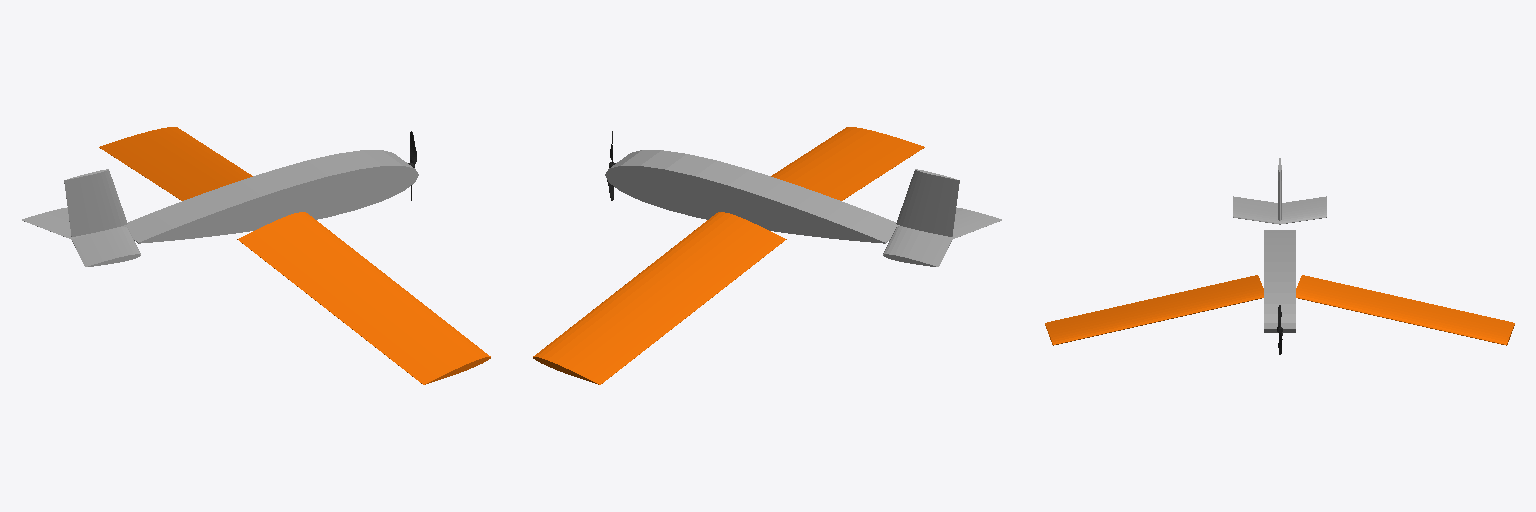
The robot description file, URDF, robot "drone_ea":
<robot name="drone_ea">
 <material name="grey">
  <color rgba="0.7 0.7 0.7 1" />
 </material>
 <material name="red">
  <color rgba="1 0.4980392156862745 0.054901960784313725 1" />
 </material>
 <material name="black">
  <color rgba="0.2 0.2 0.2 1" />
 </material>
 <link name="root_link">
  <inertial>
   <origin rpy="0 0 0" xyz="0 0 0" />
   <mass value="0" />
   <inertia ixx="0" ixy="0" ixz="0" iyy="0" iyz="0" izz="0" />
  </inertial>
 </link>
 <joint name="fixed_joint_base_fuselage" type="fixed">
  <parent link="root_link" />
  <child link="fuselage" />
  <origin rpy="3.141592653589793 0 0" xyz="0 0 0" />
 </joint>
 <link name="fuselage">
  <inertial>
   <origin rpy="0 0 0" xyz="-0.344 0 0" />
   <mass value="0.55" />
   <inertia ixx="0.00029015955" ixy="0" ixz="0" iyy="0.0074080147" iyz="0" izz="0.0074511885" />
  </inertial>
  <visual>
   <origin rpy="0 0 0" xyz="0 0 0" />
   <geometry>
    <mesh filename="package://ros_muav/meshes/fuselage0014_tail0009.stl" scale="0.001 0.001 0.001" />
   </geometry>
   <material name="grey" />
  </visual>
 </link>
 <joint name="fixed_joint_aero_frame_fuselage" type="fixed">
  <parent link="fuselage" />
  <child link="aero_frame_fuselage" />
  <origin rpy="0 3.141592653589793 0" xyz="-0.344 0 0" />
 </joint>
 <link name="aero_frame_fuselage" />
 <joint name="fixed_joint_right_wing" type="fixed">
  <parent link="fuselage" />
  <child link="fuselage_right_0" />
  <origin rpy="-0.17453292519943295 -0.06981317007977318 3.0019663134302466" xyz="-0.35 0.05 0.03" />
 </joint>
 <link name="fuselage_right_0">
  <inertial>
   <mass value="0.018" />
   <origin rpy="0 0 0" xyz="0 0 0" />
   <inertia ixx="2.1333333333333334e-06" ixy="0" ixz="0" iyy="2.1333333333333334e-06" iyz="0" izz="2.1333333333333334e-06" />
  </inertial>
 </link>
 <joint name="joint_0_twist_right_wing" type="revolute">
  <parent link="fuselage_right_0" />
  <child link="fuselage_right_1" />
  <origin rpy="0 0 0" xyz="0 0 0" />
  <axis xyz="0 1 0" />
  <limit effort="0.26" lower="-0.5235987755982988" upper="0.5235987755982988" velocity="5.393067388662478" />
  <dynamics damping="1" friction="0" />
 </joint>
 <link name="fuselage_right_1">
  <inertial>
   <mass value="0" />
   <origin rpy="0 0 0" xyz="0 0 0" />
   <inertia ixx="0" ixy="0" ixz="0" iyy="0" iyz="0" izz="0" />
  </inertial>
 </link>
 <joint name="joint_1_fixed_right_wing" type="fixed">
  <parent link="fuselage_right_1" />
  <child link="fuselage_right_2" />
  <origin rpy="0 0 0" xyz="0 0 0" />
  <axis xyz="0 0 0" />
 </joint>
 <link name="fuselage_right_2">
  <inertial>
   <mass value="0" />
   <origin rpy="0 0 0" xyz="0 0 0" />
   <inertia ixx="0" ixy="0" ixz="0" iyy="0" iyz="0" izz="0" />
  </inertial>
 </link>
 <joint name="joint_2_fixed_right_wing" type="fixed">
  <parent link="fuselage_right_2" />
  <child link="right_wing" />
  <origin rpy="0 0 0" xyz="0 0 0" />
  <axis xyz="0 0 0" />
 </joint>
 <link name="right_wing">
  <inertial>
   <origin rpy="0 0 0" xyz="0.034436664 -0.35000000000000003 0" />
   <mass value="0.05185104357599042" />
   <inertia ixx="0.0021182021866224007" ixy="0" ixz="0" iyy="0.00011484602924630402" iyz="0" izz="0.002231145645653761" />
  </inertial>
  <visual>
   <origin rpy="0 0 0" xyz="0 0 0" />
   <geometry>
    <mesh filename="package://ros_muav/meshes/wing0009.stl" scale="0.2 0.7000000000000001 0.2" />
   </geometry>
   <material name="red" />
  </visual>
 </link>
 <joint name="fixed_joint_aero_frame_right_wing" type="fixed">
  <parent link="right_wing" />
  <child link="aero_frame_right_wing" />
  <origin rpy="3.141592653589793 0 0" xyz="0.034436664 -0.35000000000000003 0" />
 </joint>
 <link name="aero_frame_right_wing" />
 <joint name="fixed_joint_left_wing" type="fixed">
  <parent link="fuselage" />
  <child link="fuselage_left_0" />
  <origin rpy="0.17453292519943295 3.2114058236695664 0.13962634015954636" xyz="-0.35 -0.05 0.03" />
 </joint>
 <link name="fuselage_left_0">
  <inertial>
   <mass value="0.018" />
   <origin rpy="0 0 0" xyz="0 0 0" />
   <inertia ixx="2.1333333333333334e-06" ixy="0" ixz="0" iyy="2.1333333333333334e-06" iyz="0" izz="2.1333333333333334e-06" />
  </inertial>
 </link>
 <joint name="joint_0_twist_left_wing" type="revolute">
  <parent link="fuselage_left_0" />
  <child link="fuselage_left_1" />
  <origin rpy="0 0 0" xyz="0 0 0" />
  <axis xyz="0 -1 0" />
  <limit effort="0.26" lower="-0.5235987755982988" upper="0.5235987755982988" velocity="5.393067388662478" />
  <dynamics damping="1" friction="0" />
 </joint>
 <link name="fuselage_left_1">
  <inertial>
   <mass value="0" />
   <origin rpy="0 0 0" xyz="0 0 0" />
   <inertia ixx="0" ixy="0" ixz="0" iyy="0" iyz="0" izz="0" />
  </inertial>
 </link>
 <joint name="joint_1_fixed_left_wing" type="fixed">
  <parent link="fuselage_left_1" />
  <child link="fuselage_left_2" />
  <origin rpy="0 0 0" xyz="0 0 0" />
  <axis xyz="0 0 0" />
 </joint>
 <link name="fuselage_left_2">
  <inertial>
   <mass value="0" />
   <origin rpy="0 0 0" xyz="0 0 0" />
   <inertia ixx="0" ixy="0" ixz="0" iyy="0" iyz="0" izz="0" />
  </inertial>
 </link>
 <joint name="joint_2_fixed_left_wing" type="fixed">
  <parent link="fuselage_left_2" />
  <child link="left_wing" />
  <origin rpy="0 0 0" xyz="0 0 0" />
  <axis xyz="0 0 0" />
 </joint>
 <link name="left_wing">
  <inertial>
   <origin rpy="0 0 0" xyz="0.034436664 -0.35000000000000003 0" />
   <mass value="0.05185104357599042" />
   <inertia ixx="0.0021182021866224007" ixy="0" ixz="0" iyy="0.00011484602924630402" iyz="0" izz="0.002231145645653761" />
  </inertial>
  <visual>
   <origin rpy="0 0 0" xyz="0 0 0" />
   <geometry>
    <mesh filename="package://ros_muav/meshes/wing0009.stl" scale="0.2 0.7000000000000001 0.2" />
   </geometry>
   <material name="red" />
  </visual>
 </link>
 <joint name="fixed_joint_aero_frame_left_wing" type="fixed">
  <parent link="left_wing" />
  <child link="aero_frame_left_wing" />
  <origin rpy="0 0 0" xyz="0.034436664 -0.35000000000000003 0" />
 </joint>
 <link name="aero_frame_left_wing" />
 <joint name="fixed_joint_collision_0" type="fixed">
  <parent link="fuselage" />
  <child link="collision_frame_0" />
  <origin rpy="0 0 0" xyz="0 0 0" />
 </joint>
 <link name="collision_frame_0" />
 <joint name="fixed_joint_collision_1" type="fixed">
  <parent link="fuselage" />
  <child link="collision_frame_1" />
  <origin rpy="0 0 0" xyz="-0.75 0 0" />
 </joint>
 <link name="collision_frame_1" />
 <joint name="fixed_joint_collision_2" type="fixed">
  <parent link="right_wing" />
  <child link="collision_frame_2" />
  <origin rpy="0 0 0" xyz="0.15000000000000002 -0.7000000000000001 0" />
 </joint>
 <link name="collision_frame_2" />
 <joint name="fixed_joint_collision_3" type="fixed">
  <parent link="right_wing" />
  <child link="collision_frame_3" />
  <origin rpy="0 0 0" xyz="-0.05 -0.7000000000000001 0" />
 </joint>
 <link name="collision_frame_3" />
 <joint name="fixed_joint_collision_4" type="fixed">
  <parent link="left_wing" />
  <child link="collision_frame_4" />
  <origin rpy="0 0 0" xyz="0.15000000000000002 -0.7000000000000001 0" />
 </joint>
 <link name="collision_frame_4" />
 <joint name="fixed_joint_collision_5" type="fixed">
  <parent link="left_wing" />
  <child link="collision_frame_5" />
  <origin rpy="0 0 0" xyz="-0.05 -0.7000000000000001 0" />
 </joint>
 <link name="collision_frame_5" />
 <joint name="fixed_joint_prop_frame_fuselage_0" type="fixed">
  <parent link="fuselage" />
  <child link="prop_frame_fuselage_0" />
  <origin rpy="3.141592653589793 -1.5707963267948966 0" xyz="0 0 0" />
 </joint>
 <link name="prop_frame_fuselage_0">
  <inertial>
   <mass value="0.031" />
   <origin rpy="0 0 0" xyz="0 0 0" />
   <inertia ixx="3.7625e-05" ixy="0" ixz="0" iyy="3.7625e-05" iyz="0" izz="7.5e-05" />
  </inertial>
  <visual>
   <origin rpy="0 0 0" xyz="0 0 0" />
   <geometry>
    <mesh filename="package://ros_muav/meshes/propeller.stl" scale="0.001 0.001 0.001" />
   </geometry>
   <material name="black" />
  </visual>
 </link>
</robot>

--- Facts derived from the render (not from the file) ---
The picture shows the robot from 3 angles, left to right: view 1: azimuth 30°, elevation 25°; view 2: azimuth 150°, elevation 25°; view 3: azimuth 270°, elevation 25°; orthographic projection.
Robot: drone_ea — 20 links, 19 joints (2 revolute, 17 fixed); root link root_link; default pose: all joints at 0.
Links seen in each view (by area): view 1: fuselage, right_wing, left_wing; view 2: fuselage, left_wing, right_wing; view 3: fuselage, right_wing, left_wing.
Boxes of the visible links, box(x1,y1,x2,y2) form: fuselage: box(22, 150, 418, 266); right_wing: box(237, 212, 490, 384); left_wing: box(99, 127, 252, 200); fuselage: box(605, 150, 1001, 266); left_wing: box(533, 212, 786, 384); right_wing: box(771, 127, 924, 200); fuselage: box(1233, 158, 1326, 332); right_wing: box(1045, 275, 1263, 345); left_wing: box(1296, 275, 1514, 345).
Size in the robot's own frame: 0.9695 by 1.5 by 0.3429 metres.
4 mesh visuals loaded from 3 distinct referenced files (3 binary STL).
